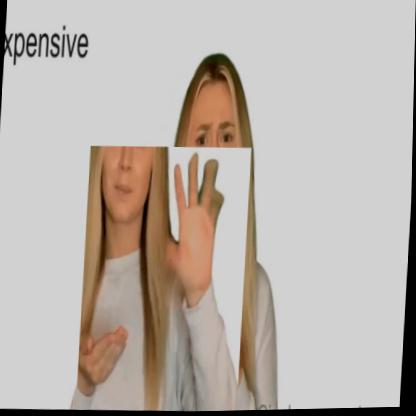Expensive: (78, 144, 252, 415)
